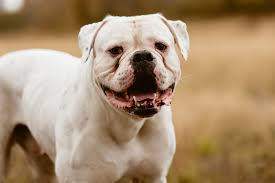Bulldog: (1, 3, 192, 183)
